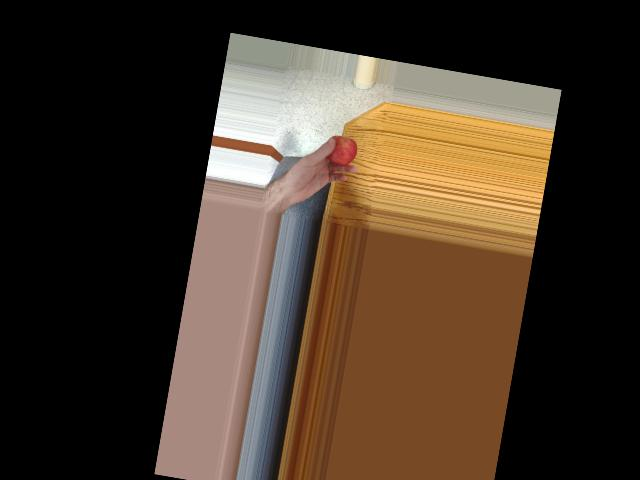apple: (321, 133, 358, 168)
